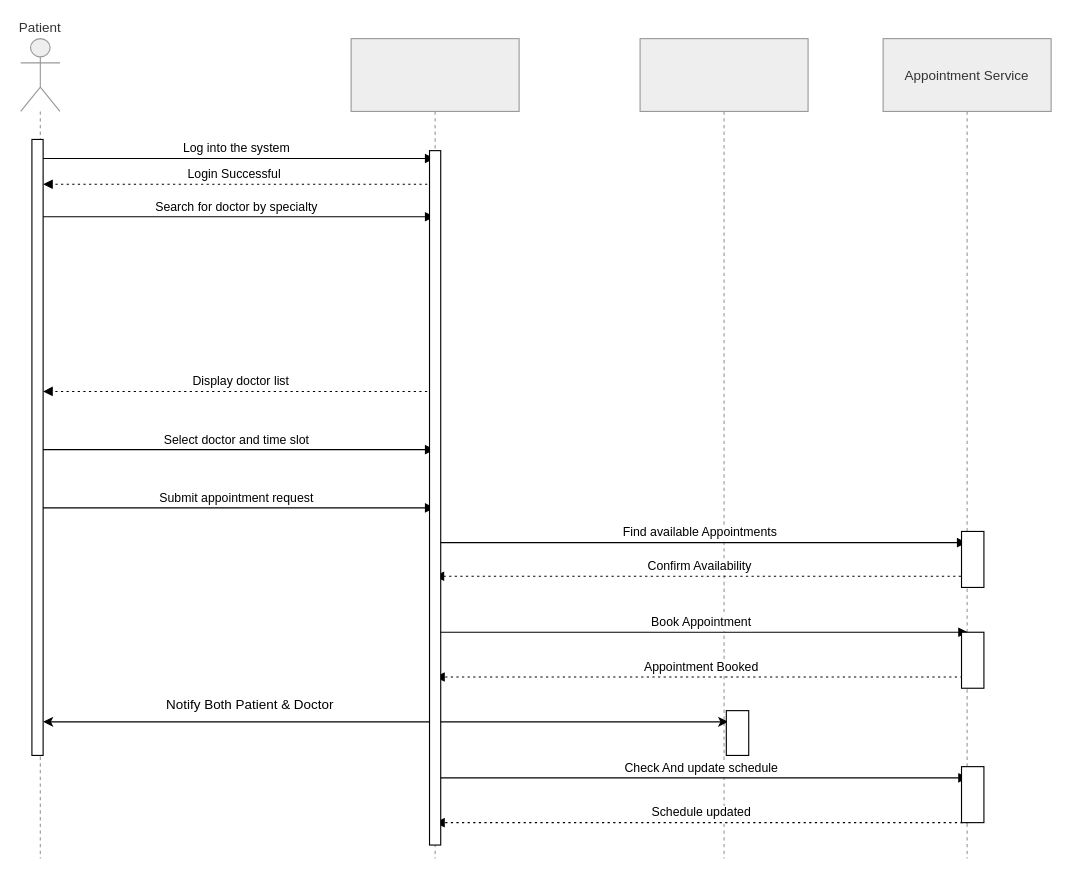
Image size: 1071x878. Some labels were removed from this diagram. The box of each missing label's shape, as (x1, y1, x2, y2) in pixels:
Doctor: (639, 38, 808, 858)
System: (350, 38, 519, 858)
